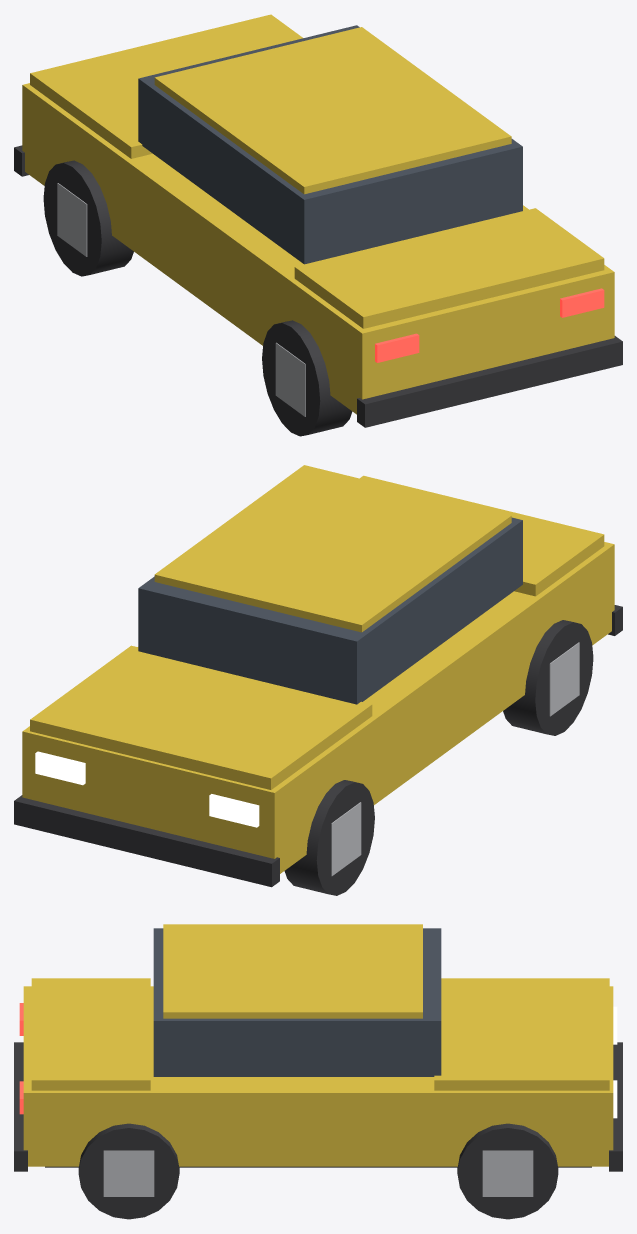
The model's file is car_yellow.gltf.
3 renders of one model, top to bottom at view 1: azimuth 30°, elevation 25°; view 2: azimuth 150°, elevation 25°; view 3: azimuth 270°, elevation 25°, orthographic. The views are drawn at different scales.
Visible parts, largest first — view 1: Body, Roof, Cabin, Trim, Wheel0, Wheel2, Taillights, Hub0, Hub2; view 2: Body, Roof, Cabin, Trim, Wheel0, Wheel2, Headlights, Hub0, Hub2; view 3: Body, Roof, Cabin, Wheel1, Wheel3, Trim, Hub1, Hub3.
Boxes of the visible parts, x1,y1,x2,y2 form: Body: (22, 14, 614, 414); Roof: (154, 27, 511, 194); Cabin: (138, 25, 522, 264); Trim: (14, 145, 622, 427); Wheel0: (43, 160, 133, 276); Wheel2: (262, 320, 352, 436); Taillights: (375, 288, 604, 362); Hub0: (57, 183, 87, 256); Hub2: (275, 342, 305, 416); Body: (22, 475, 614, 873); Roof: (154, 465, 511, 632); Cabin: (138, 517, 522, 704); Trim: (14, 605, 622, 887); Wheel0: (284, 780, 374, 895); Wheel2: (503, 620, 593, 735); Headlights: (35, 751, 259, 827); Hub0: (331, 802, 361, 876); Hub2: (549, 642, 579, 716); Body: (23, 978, 613, 1166); Roof: (163, 924, 422, 1018); Cabin: (153, 928, 441, 1076); Wheel1: (457, 1123, 558, 1219); Wheel3: (78, 1123, 179, 1219); Trim: (14, 1042, 622, 1171); Hub1: (482, 1150, 533, 1196); Hub3: (103, 1150, 154, 1196).
Bounding box in the file's own units: 1.96 × 1.52 × 4.34.
